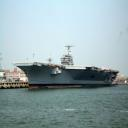Portanaves: (12, 45, 122, 92)
